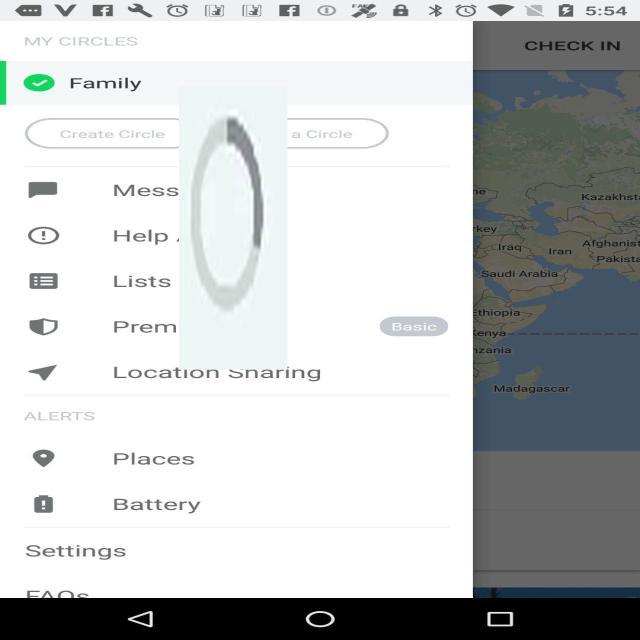misdirection: (179, 86, 287, 370)
